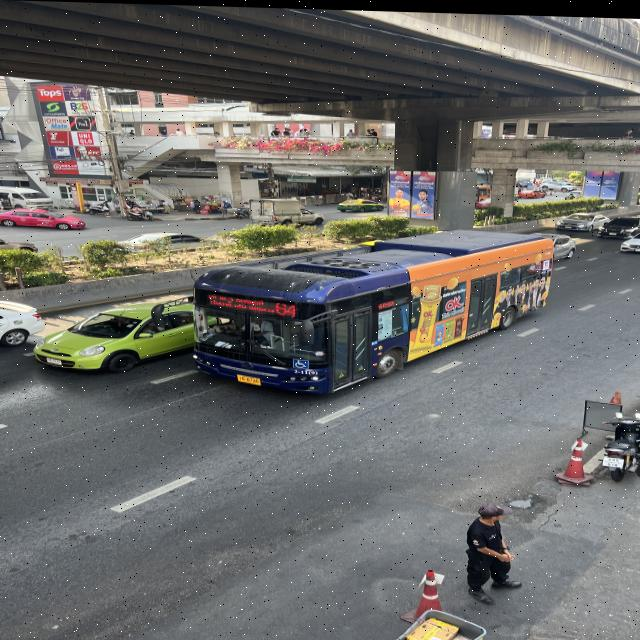Bus Line Number: (273, 297, 301, 315)
Bus Side Number: (291, 367, 321, 375)
Destination Sign: (204, 293, 274, 314)
TSB-Bus: (192, 229, 556, 396)
